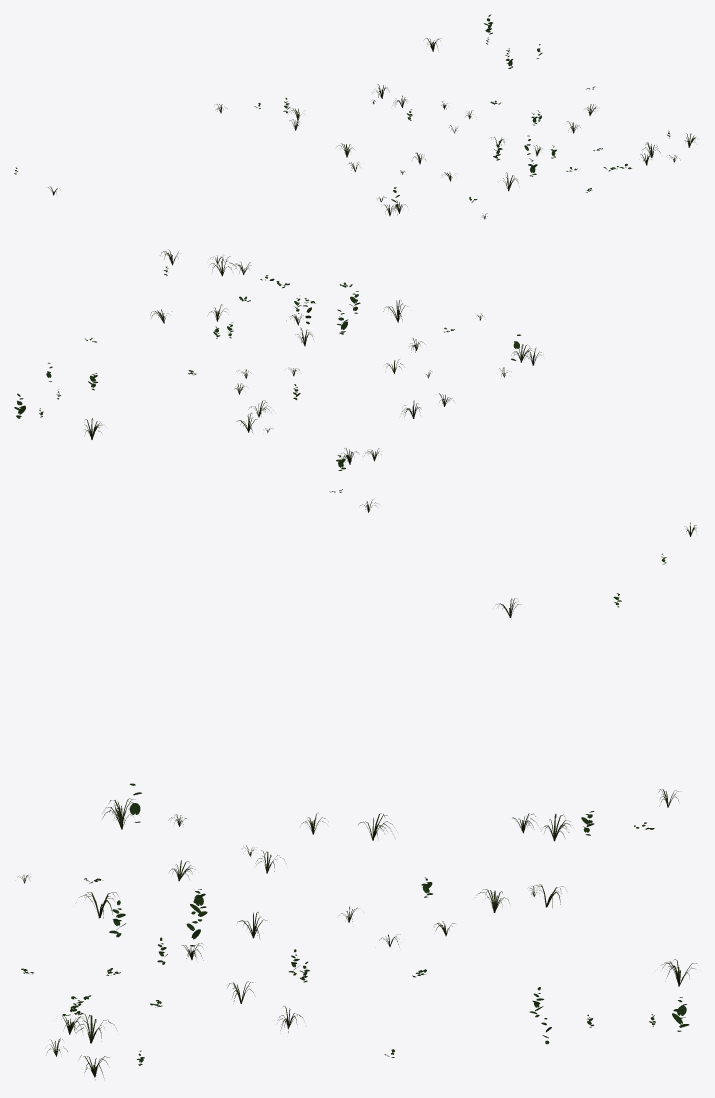
Rendered from weeds_-02-02_foliage.dae.
The picture shows the model from 3 angles, top to bottom: view 1: azimuth 30°, elevation 25°; view 2: azimuth 150°, elevation 25°; view 3: azimuth 270°, elevation 25°; orthographic projection. The views are drawn at different scales.
Parts seen in each view (by area): view 1: weeds_-02-02_foliage; view 2: weeds_-02-02_foliage; view 3: weeds_-02-02_foliage.
Boxes of the visible parts, x1,y1,x2,y2 form: weeds_-02-02_foliage: (14, 14, 695, 219); weeds_-02-02_foliage: (14, 249, 696, 564); weeds_-02-02_foliage: (18, 593, 696, 1079).
Size of the model in its own units: 10.08 by 6.02 by 0.527.
